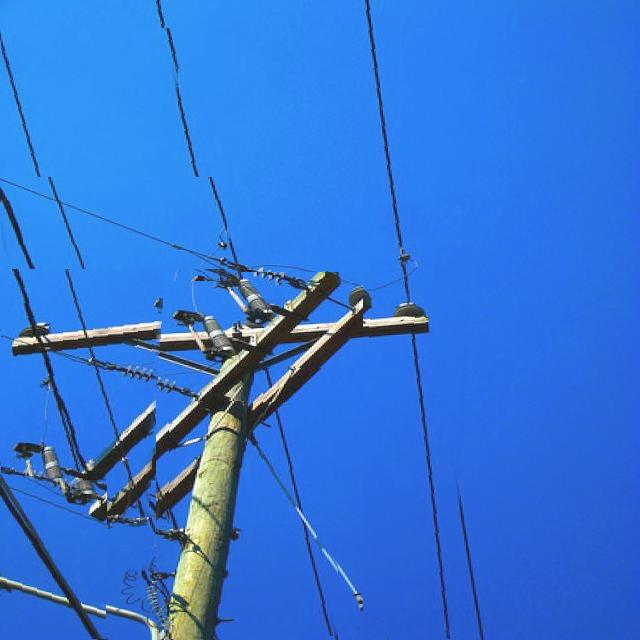crossarm: (134, 284, 385, 528), (91, 272, 339, 513), (36, 314, 445, 358)
pole: (169, 401, 247, 639)
wire: (1, 29, 156, 530), (363, 0, 460, 639), (1, 188, 156, 533), (0, 177, 227, 269), (156, 1, 230, 281), (263, 369, 338, 637), (0, 475, 106, 639)
